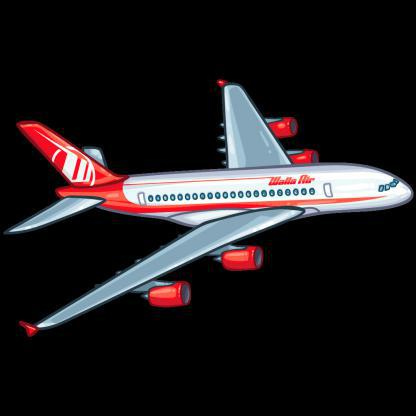CIV_Plane: (6, 80, 415, 344)
